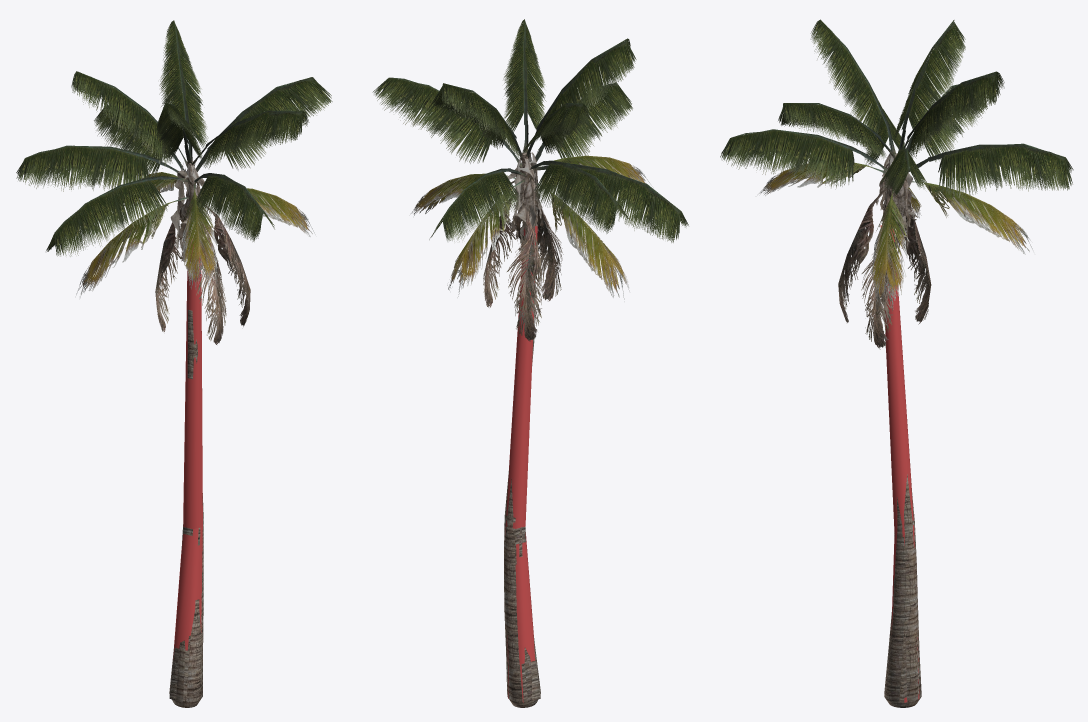
File: palmtree_tall.DAE
3 renders of one model, left to right at view 1: azimuth 30°, elevation 25°; view 2: azimuth 150°, elevation 25°; view 3: azimuth 270°, elevation 25°, orthographic.
Parts seen in each view (by area): view 1: palmtree700, palmtree100, Col-1; view 2: palmtree700, palmtree100, Col-1; view 3: palmtree700, palmtree100, Col-1.
Part boxes in pixels (x1,y1,x2,y2): palmtree700: (17, 24, 326, 707); palmtree100: (16, 20, 332, 702); Col-1: (173, 238, 202, 659); palmtree700: (374, 22, 686, 707); palmtree100: (372, 19, 688, 702); Col-1: (505, 225, 537, 702); palmtree700: (721, 22, 1071, 707); palmtree100: (720, 19, 1073, 702); Col-1: (880, 225, 919, 702).
Size of the model in its own units: 7.12 by 7.27 by 14.78.
